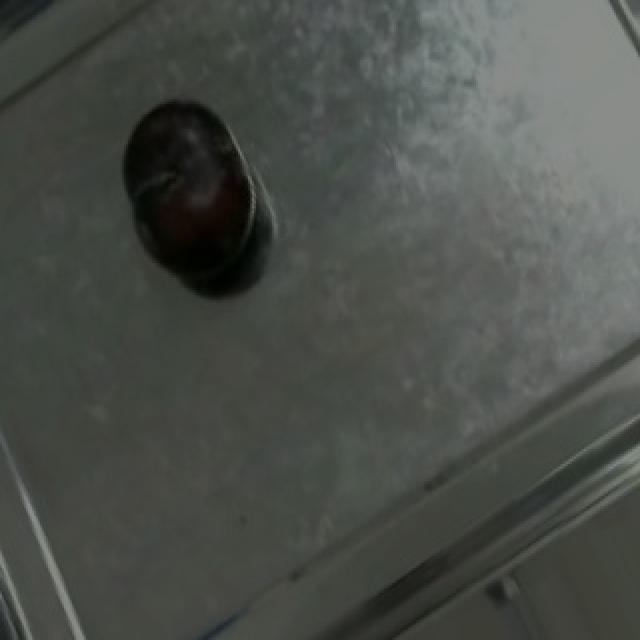Fruit: (102, 79, 276, 298)
